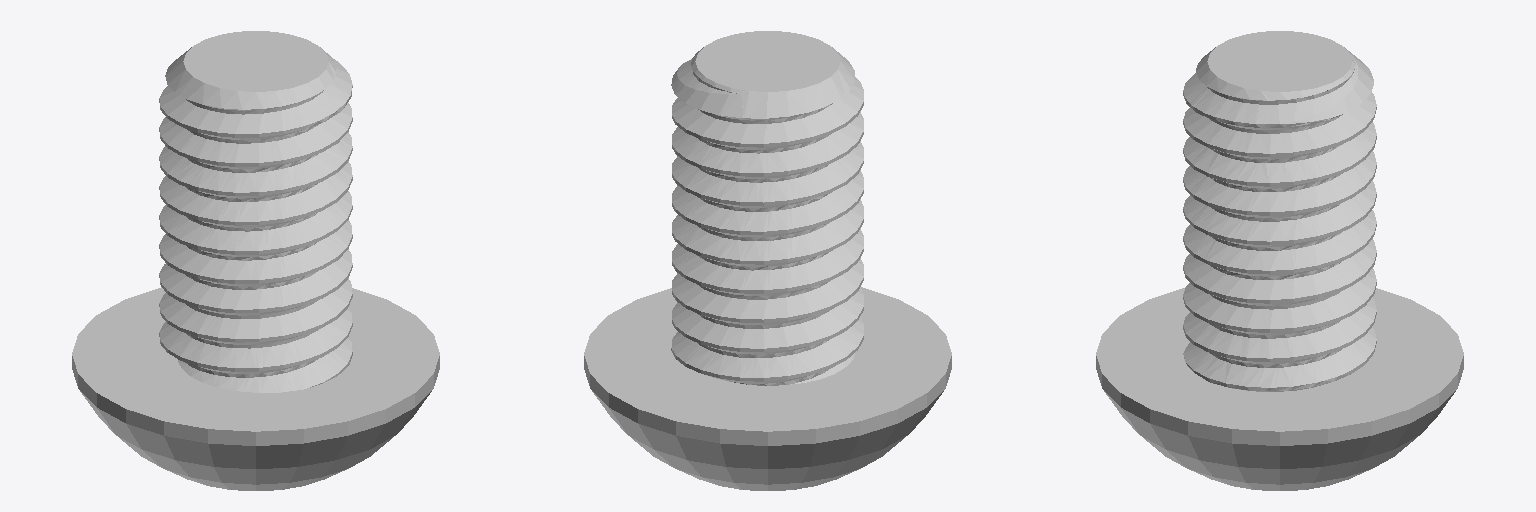
File: T200_06_T200STEP_T200STEPSTEP_T200STEP1_04_T200STEP1.obj
3 views of the same model, side by side, from view 1: azimuth 30°, elevation 25°; view 2: azimuth 150°, elevation 25°; view 3: azimuth 270°, elevation 25° (orthographic).
Size of the model in its own units: 0.0057 by 0.0066 by 0.0057.